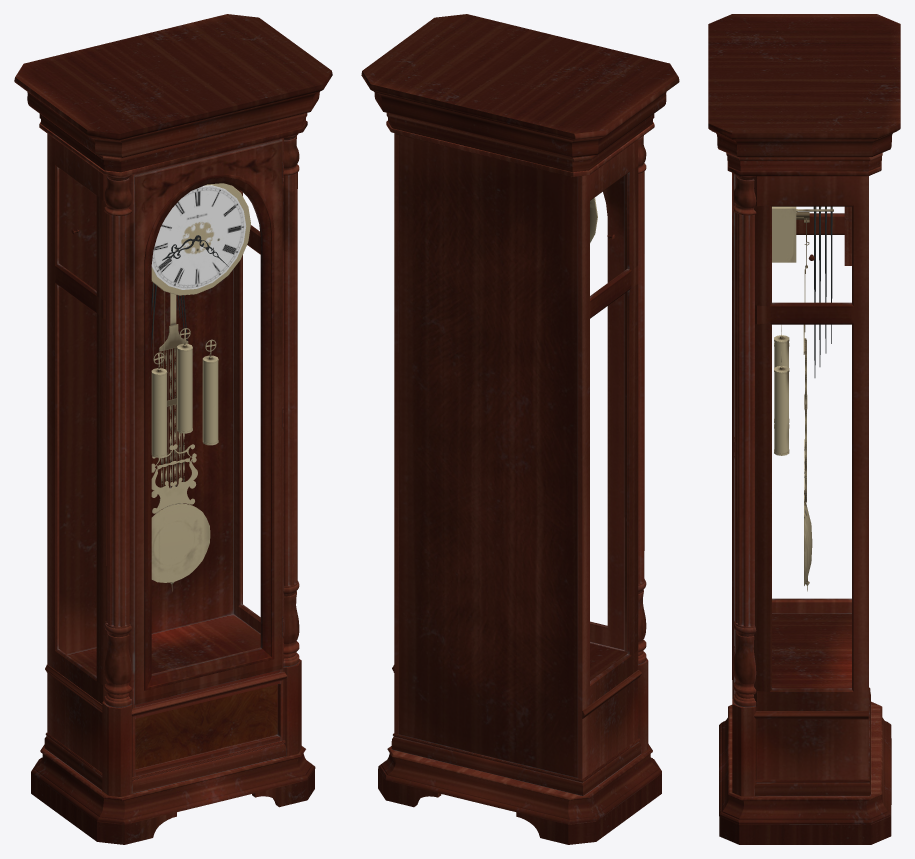
Rendered from grandfather_clock.glb.
3 renders of one model, left to right at view 1: azimuth 30°, elevation 25°; view 2: azimuth 150°, elevation 25°; view 3: azimuth 270°, elevation 25°, orthographic.
Visible parts, largest first — view 1: Back_GR, Top_GR, Door_GR, GrandFatherClockGameRes26:Side2, GrandFatherClockGameRes26:Pillar2, Pillar_GR, BaseFace_GR, ClockFace_GR, GrandFatherClockGameRes26:Base2, Side_GR, Floor_GR, Pendulum_GR (+16 smaller); view 2: Back_GR, Top_GR, GrandFatherClockGameRes26:Side2, Door_GR, GrandFatherClockGameRes26:Base2, GrandFatherClockGameRes26:Pillar2, SkirtingSide_GR, Base_GR, Side_GR, GrandFatherClockGameRes26:Feet2, Foot_GR, GrandFatherClockGameRes26:PillarBase2 (+1 smaller); view 3: Side_GR, Top_GR, Pillar_GR, Base_GR, Floor_GR, Foot_GR, PillarBase_GR, GrandFatherClockGameRes26:Side2, SkirtingSide_GR, GrandFatherClockGameRes26:Base2, Door_GR, MechanismBox_GR (+6 smaller).
Part boxes in pixels (x1,y1,x2,y2): Back_GR: (59,169,233,654); Top_GR: (14,14,332,177); Door_GR: (134,140,282,705); GrandFatherClockGameRes26:Side2: (47,134,135,781); GrandFatherClockGameRes26:Pillar2: (104,175,131,707); Pillar_GR: (283,134,299,666); BaseFace_GR: (135,684,277,769); ClockFace_GR: (151,185,246,289); GrandFatherClockGameRes26:Base2: (31,744,216,824); Side_GR: (233,138,284,740); Floor_GR: (67,614,260,675); Pendulum_GR: (151,503,210,582); Back_GR: (399,135,577,778); Top_GR: (361,14,679,177); GrandFatherClockGameRes26:Side2: (577,140,638,779); Door_GR: (590,176,624,650); GrandFatherClockGameRes26:Base2: (477,744,661,824); GrandFatherClockGameRes26:Pillar2: (638,135,646,664); SkirtingSide_GR: (391,736,641,795); Base_GR: (378,746,486,802); Side_GR: (394,133,398,734); GrandFatherClockGameRes26:Feet2: (516,774,661,844); Foot_GR: (378,769,441,807); GrandFatherClockGameRes26:PillarBase2: (638,658,648,753); Side_GR: (735,175,868,779); Top_GR: (708,14,900,176); Pillar_GR: (733,173,756,707); Base_GR: (719,749,891,824); Floor_GR: (772,614,851,688); Foot_GR: (719,816,891,844); PillarBase_GR: (732,699,756,796); GrandFatherClockGameRes26:Side2: (772,176,868,613); SkirtingSide_GR: (754,692,870,796); GrandFatherClockGameRes26:Base2: (719,701,891,769); Door_GR: (732,172,735,694); MechanismBox_GR: (772,206,796,262).
Size of the model in its own units: 0.7155 by 2 by 0.4855.
2 materials, 2 textured.
